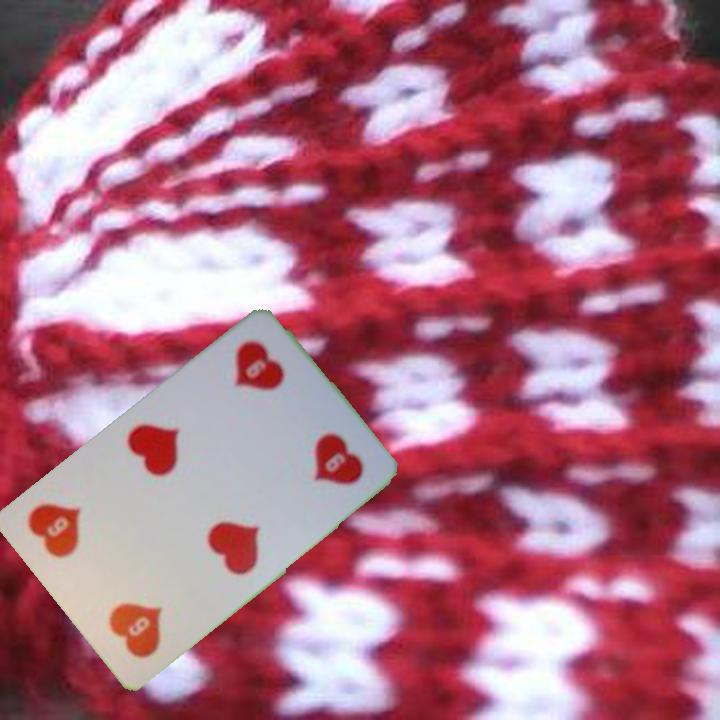h_6.png: (198, 322, 325, 452), (72, 542, 199, 672)
